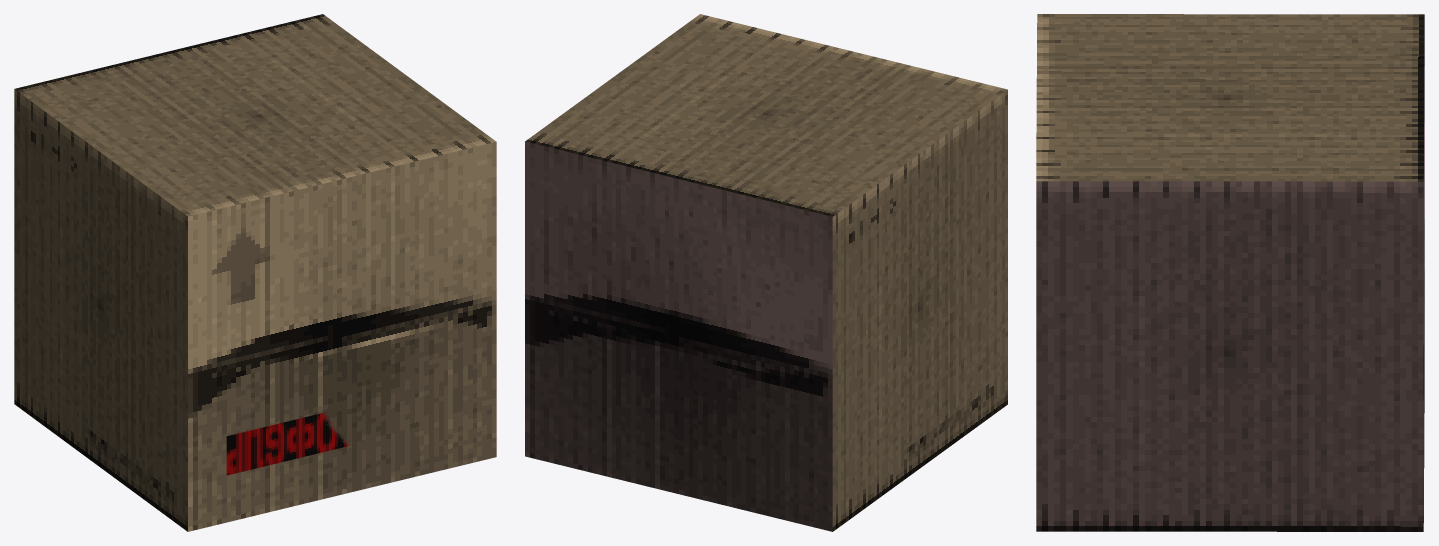
File: primary_209.glb
The picture shows the model from 3 angles, left to right: view 1: azimuth 30°, elevation 25°; view 2: azimuth 150°, elevation 25°; view 3: azimuth 270°, elevation 25°; orthographic projection. The views are drawn at different scales.
Parts seen in each view (by area): view 1: Object; view 2: Object; view 3: Object.
Part boxes in pixels (x1,y1,x2,y2): Object: (14,14,496,531); Object: (525,14,1007,531); Object: (1036,14,1424,531).
Size of the model in its own units: 1.1 by 1.07 by 1.08.
Materials: 7 (7 with a texture image).
